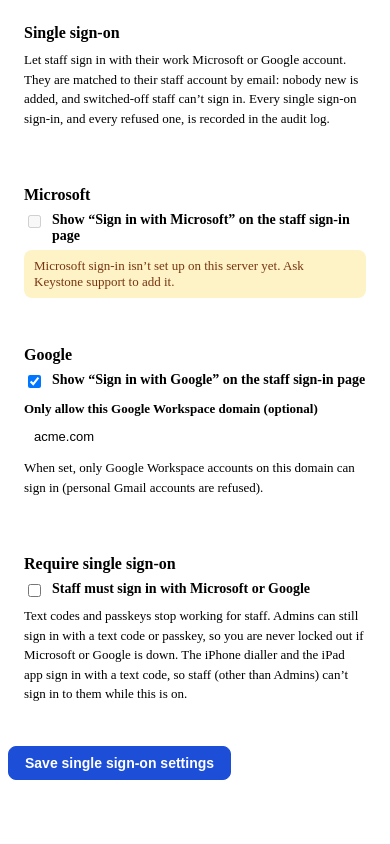
Test: Single sign-on tab › saves the form, including the domain restriction and the require switch
Replace the text in the field labelled "Only allow this Google Workspace domain (optional)" with "northwind.com" at [195, 436], box [24, 421, 366, 452]
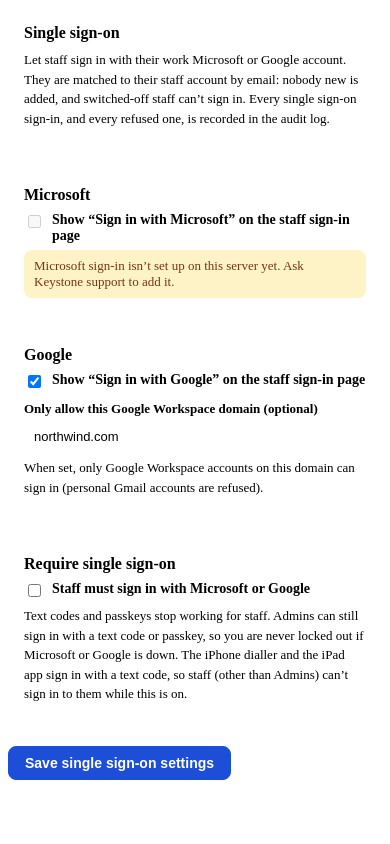
Click the checkbox labelled "Staff must sign in with Microsoft or Google" at [34, 590], box [28, 584, 41, 597]
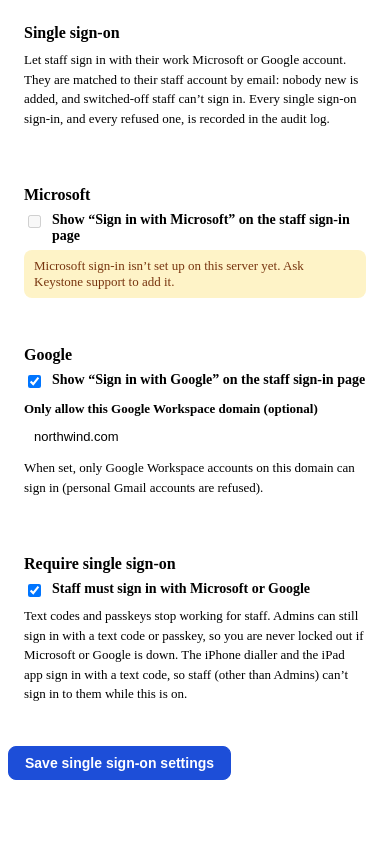
Click the button "Save single sign-on settings" at [120, 762], box [8, 746, 231, 780]
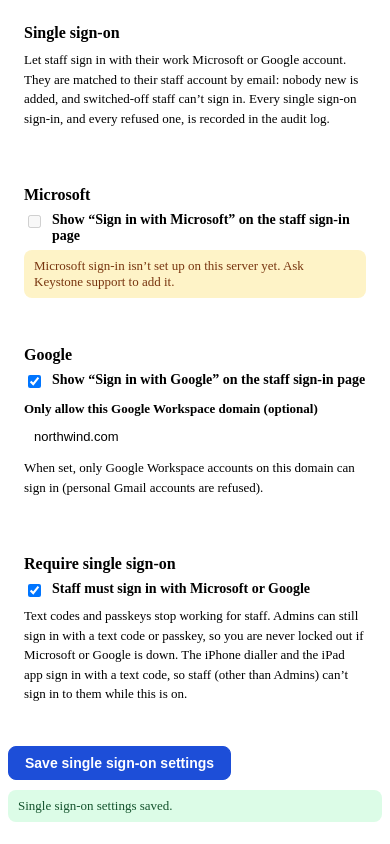
Result: the text "Single sign-on settings saved." is shown at [8, 790, 382, 822]
